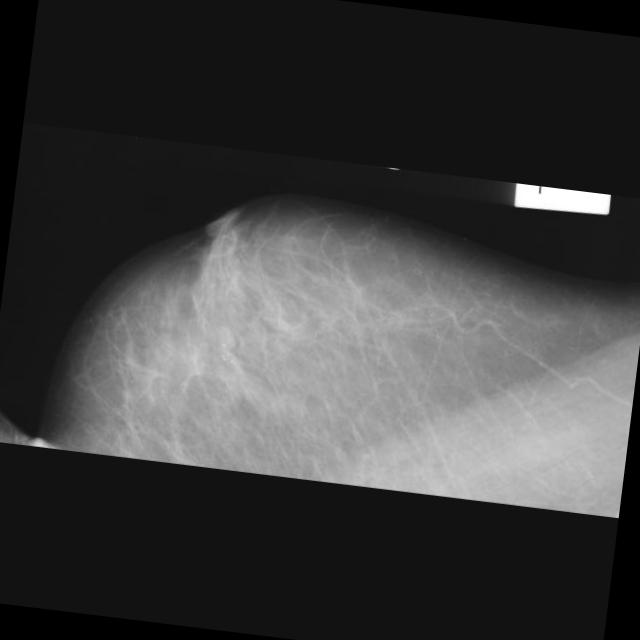CALC: (208, 338, 240, 370)
